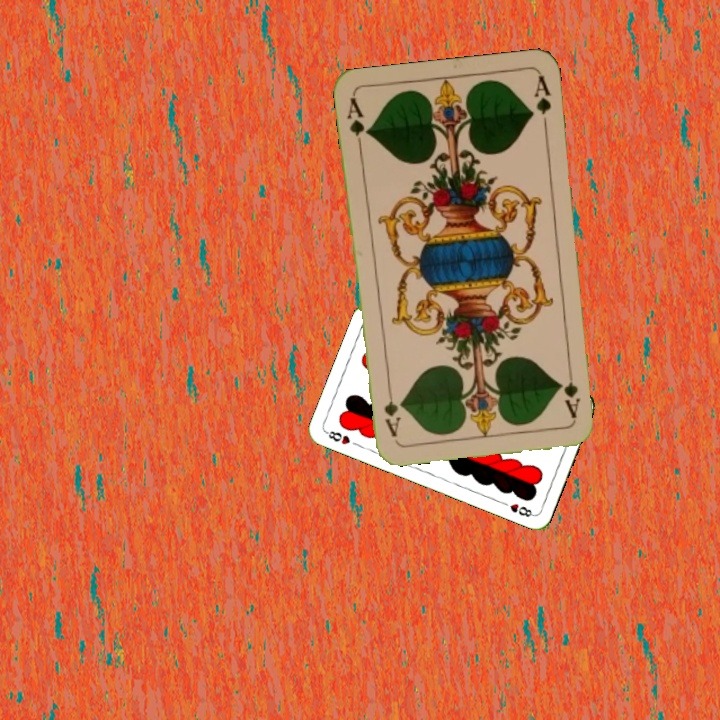GA: (342, 93, 372, 153), (559, 362, 583, 421)
H8: (322, 427, 353, 447)
